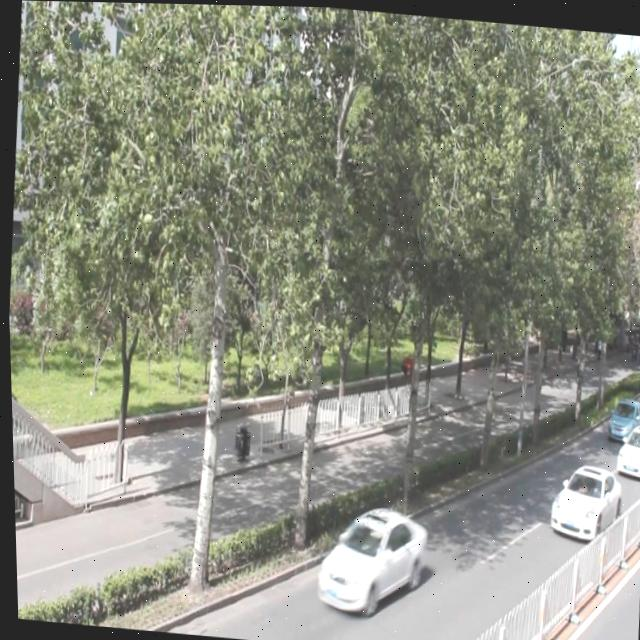car: (307, 499, 426, 618), (542, 457, 619, 543), (609, 419, 640, 478), (601, 395, 640, 441)
